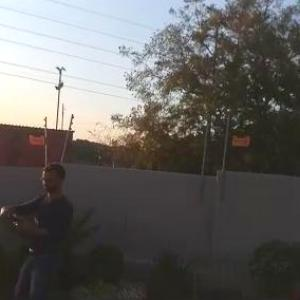follow: (0, 156, 76, 299)
